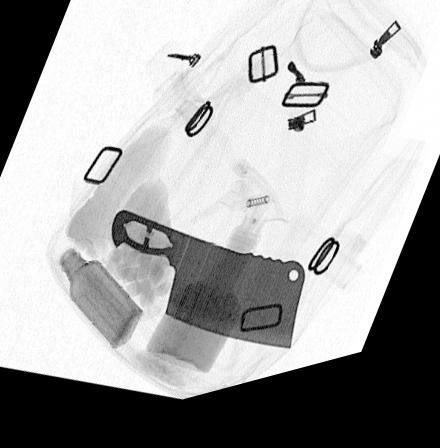Knife: (110, 216, 305, 364)
